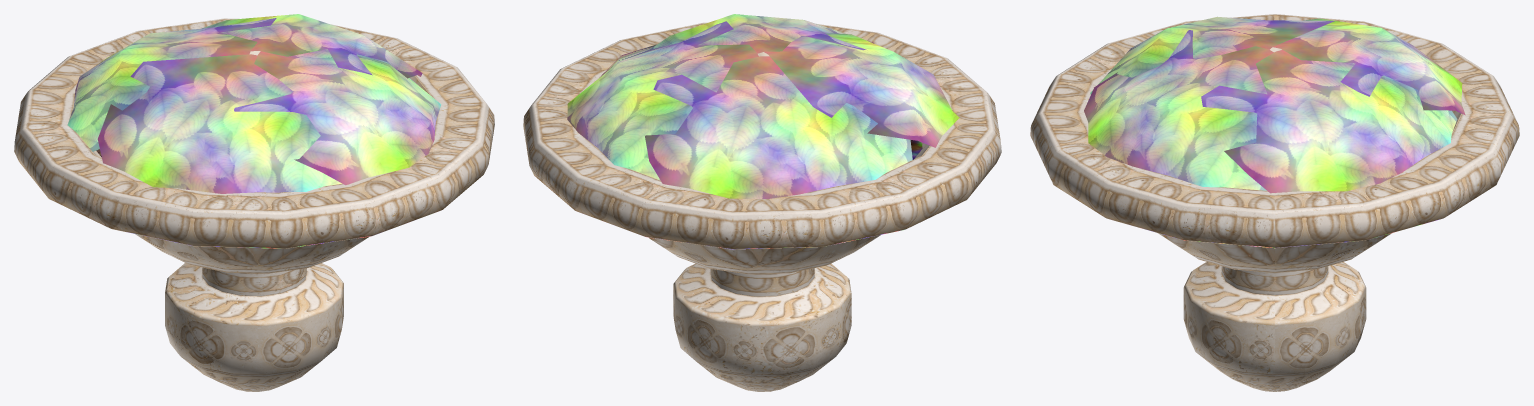
The model's file is bowl_SM.fbx.
3 renders of one model, left to right at view 1: azimuth 30°, elevation 25°; view 2: azimuth 150°, elevation 25°; view 3: azimuth 270°, elevation 25°, orthographic.
Parts seen in each view (by area): view 1: bowl_SM_LOD0; view 2: bowl_SM_LOD0; view 3: bowl_SM_LOD0.
Boxes of the visible parts, bbox=[...] form: bowl_SM_LOD0: bbox=[14, 14, 494, 391]; bowl_SM_LOD0: bbox=[523, 14, 1001, 391]; bowl_SM_LOD0: bbox=[1030, 14, 1519, 391].
Size of the model in its own units: 155 by 155 by 118.
Materials: 4 (4 with a texture image).
